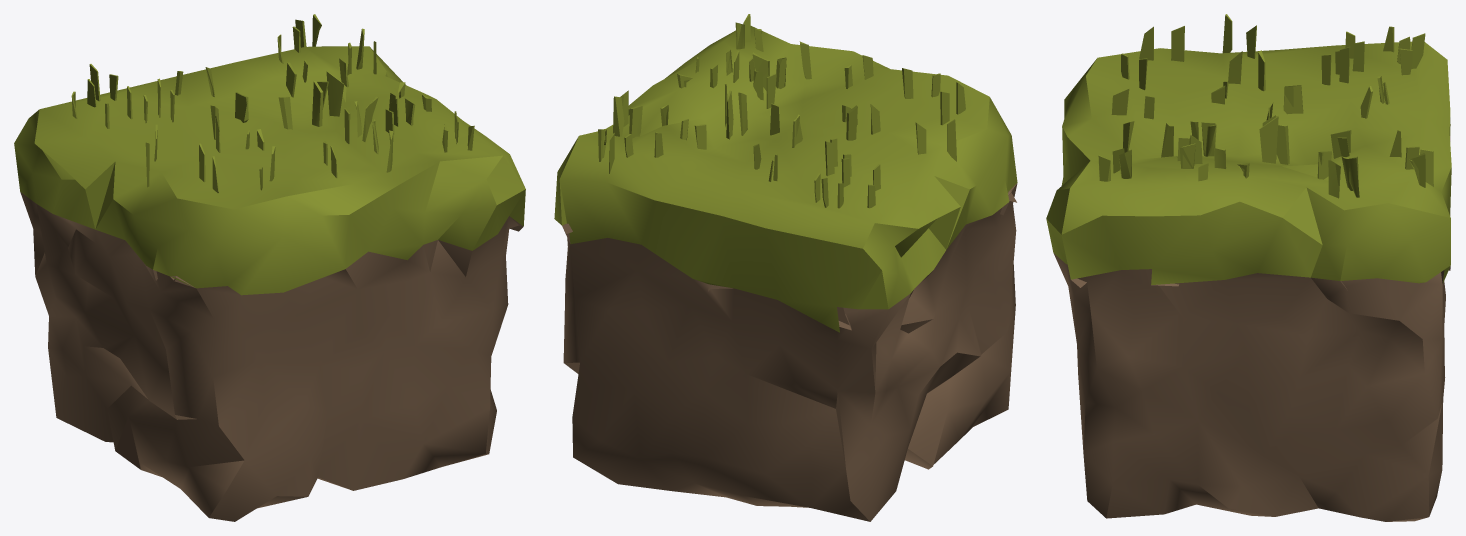
The model's file is plateforme3.fbx.
3 renders of one model, left to right at view 1: azimuth 30°, elevation 25°; view 2: azimuth 150°, elevation 25°; view 3: azimuth 270°, elevation 25°, orthographic. The views are drawn at different scales.
Visible parts, largest first — view 1: Tile_Rocky_01.059; view 2: Tile_Rocky_01.059; view 3: Tile_Rocky_01.059.
Boxes of the visible parts, x1=… form: Tile_Rocky_01.059: x1=14, y1=14, x2=525, y2=521; Tile_Rocky_01.059: x1=554, y1=14, x2=1017, y2=521; Tile_Rocky_01.059: x1=1046, y1=14, x2=1451, y2=521.
Size of the model in its own units: 251 by 246 by 235.
